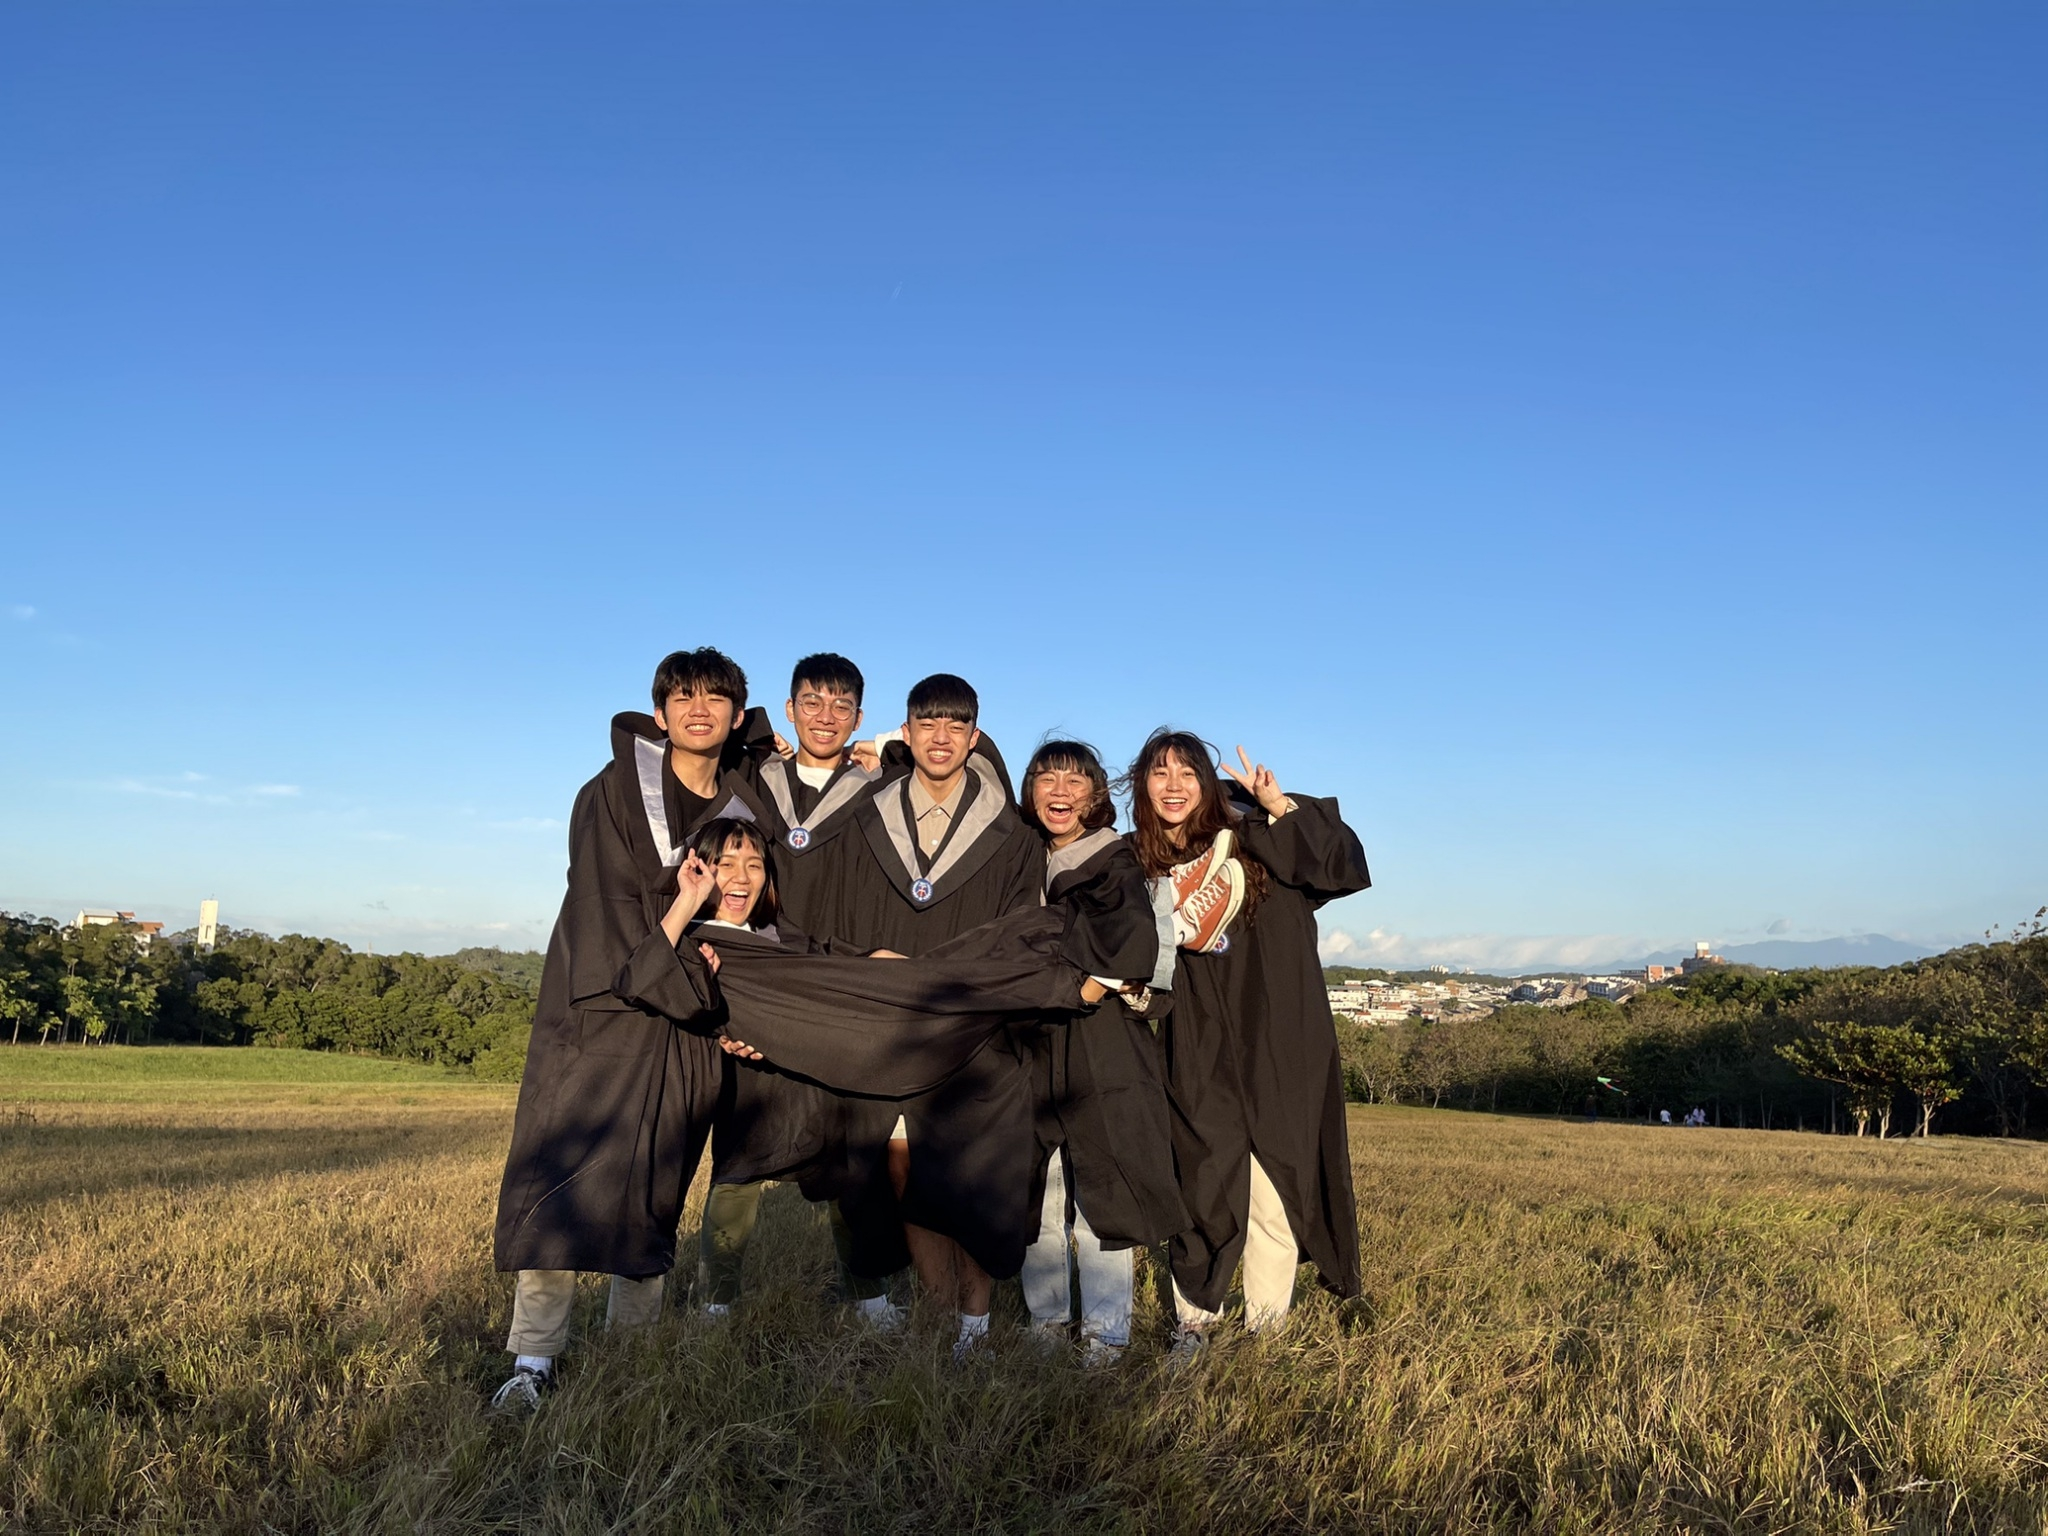people: (637, 813, 1143, 1090), (1143, 737, 1354, 1381), (607, 649, 746, 1375), (890, 672, 1016, 1355), (757, 649, 884, 1313), (1031, 746, 1146, 1372)
